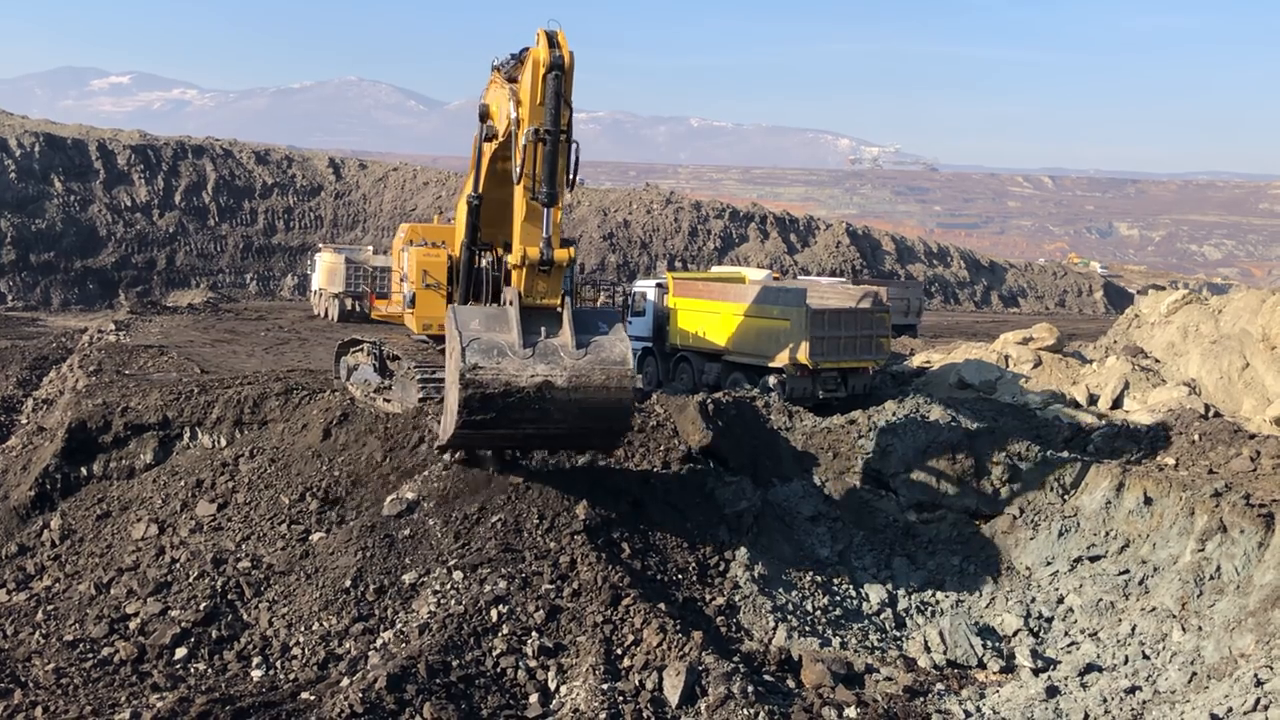empty: (437, 290, 643, 461)
